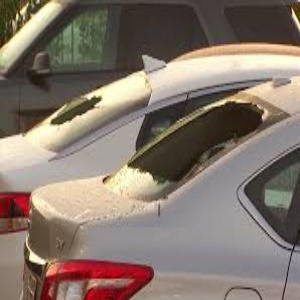door: (128, 131, 237, 203)
